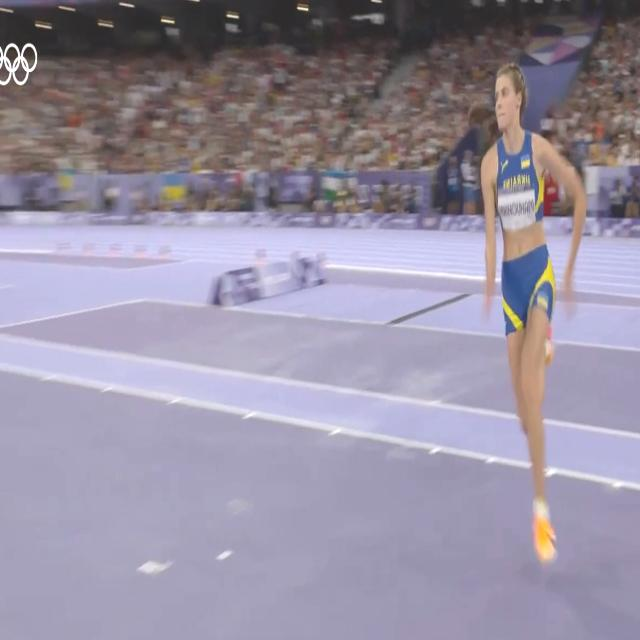run: (476, 60, 584, 563)
